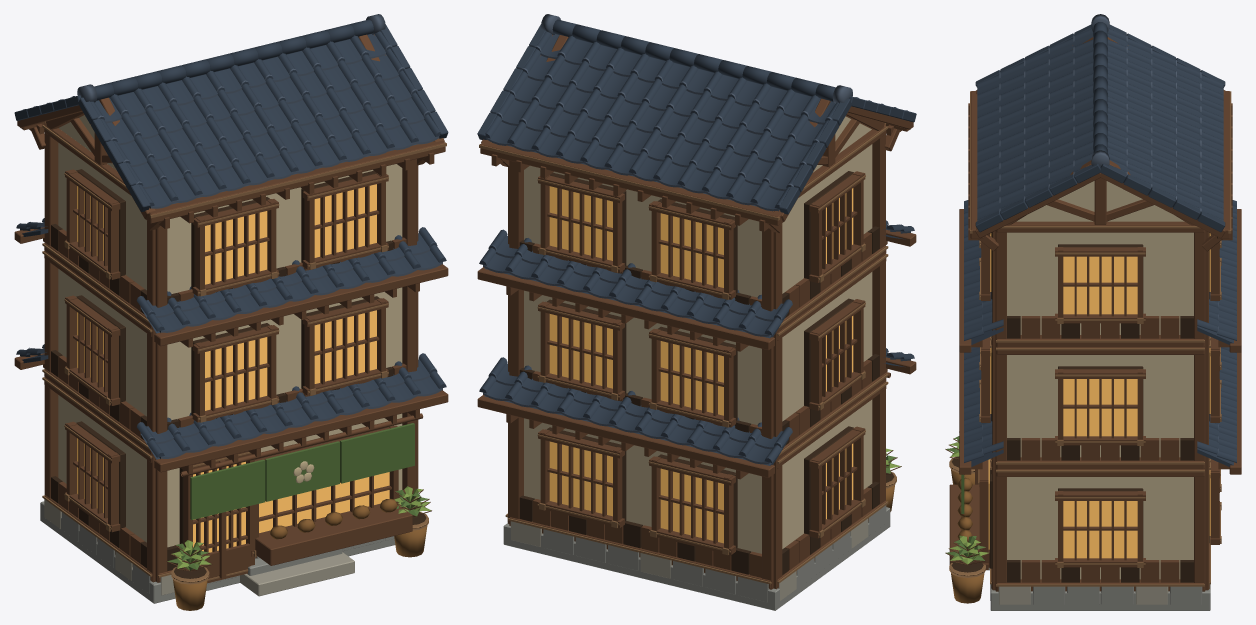
3 views of the same model, side by side, from view 1: azimuth 30°, elevation 25°; view 2: azimuth 150°, elevation 25°; view 3: azimuth 270°, elevation 25° (orthographic). The views are drawn at different scales.
Visible parts, largest first — view 1: compact_shop_3_geometry; view 2: compact_shop_3_geometry; view 3: compact_shop_3_geometry.
Part boxes in pixels (x1,y1,x2,y2): compact_shop_3_geometry: (14, 14, 448, 610); compact_shop_3_geometry: (477, 14, 916, 610); compact_shop_3_geometry: (945, 14, 1241, 610).
Size of the model in its own units: 0.99 by 1.48 by 0.8597.
